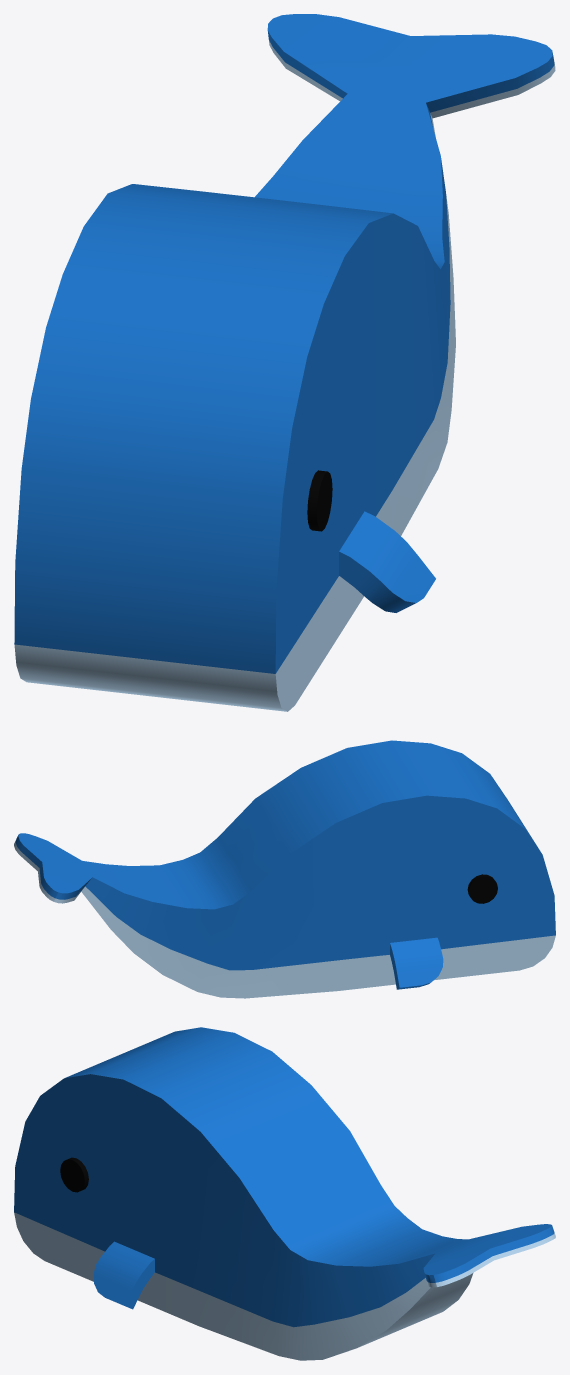
Rendered from whale.glb.
3 renders of one model, top to bottom at view 1: azimuth 30°, elevation 25°; view 2: azimuth 150°, elevation 25°; view 3: azimuth 270°, elevation 25°, orthographic. The views are drawn at different scales.
Parts seen in each view (by area): view 1: Cube.126; view 2: Cube.126; view 3: Cube.126.
Boxes of the visible parts, x1,y1,x2,y2 form: Cube.126: (14,14,555,711); Cube.126: (14,740,555,998); Cube.126: (14,1027,555,1360).
Bounding box in the file's own units: 2.28 × 0.9988 × 2.28.
1 material, 1 textured.
